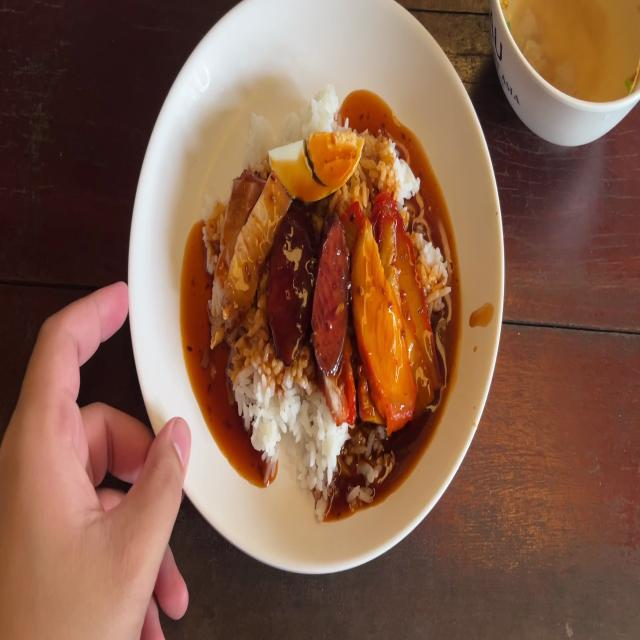01boiled_egg: (262, 126, 366, 188)
01chainese_sausage: (273, 220, 352, 355), (312, 218, 354, 364), (269, 218, 315, 339)
01crispy_pork: (210, 170, 283, 322), (218, 166, 286, 318), (212, 167, 256, 276)
01red_pork: (355, 203, 439, 422), (348, 218, 408, 405), (392, 197, 442, 402)
01red_pork_and_crispy_pork: (207, 102, 442, 473)
01rice: (234, 327, 284, 447), (292, 371, 336, 495), (351, 138, 412, 200)
